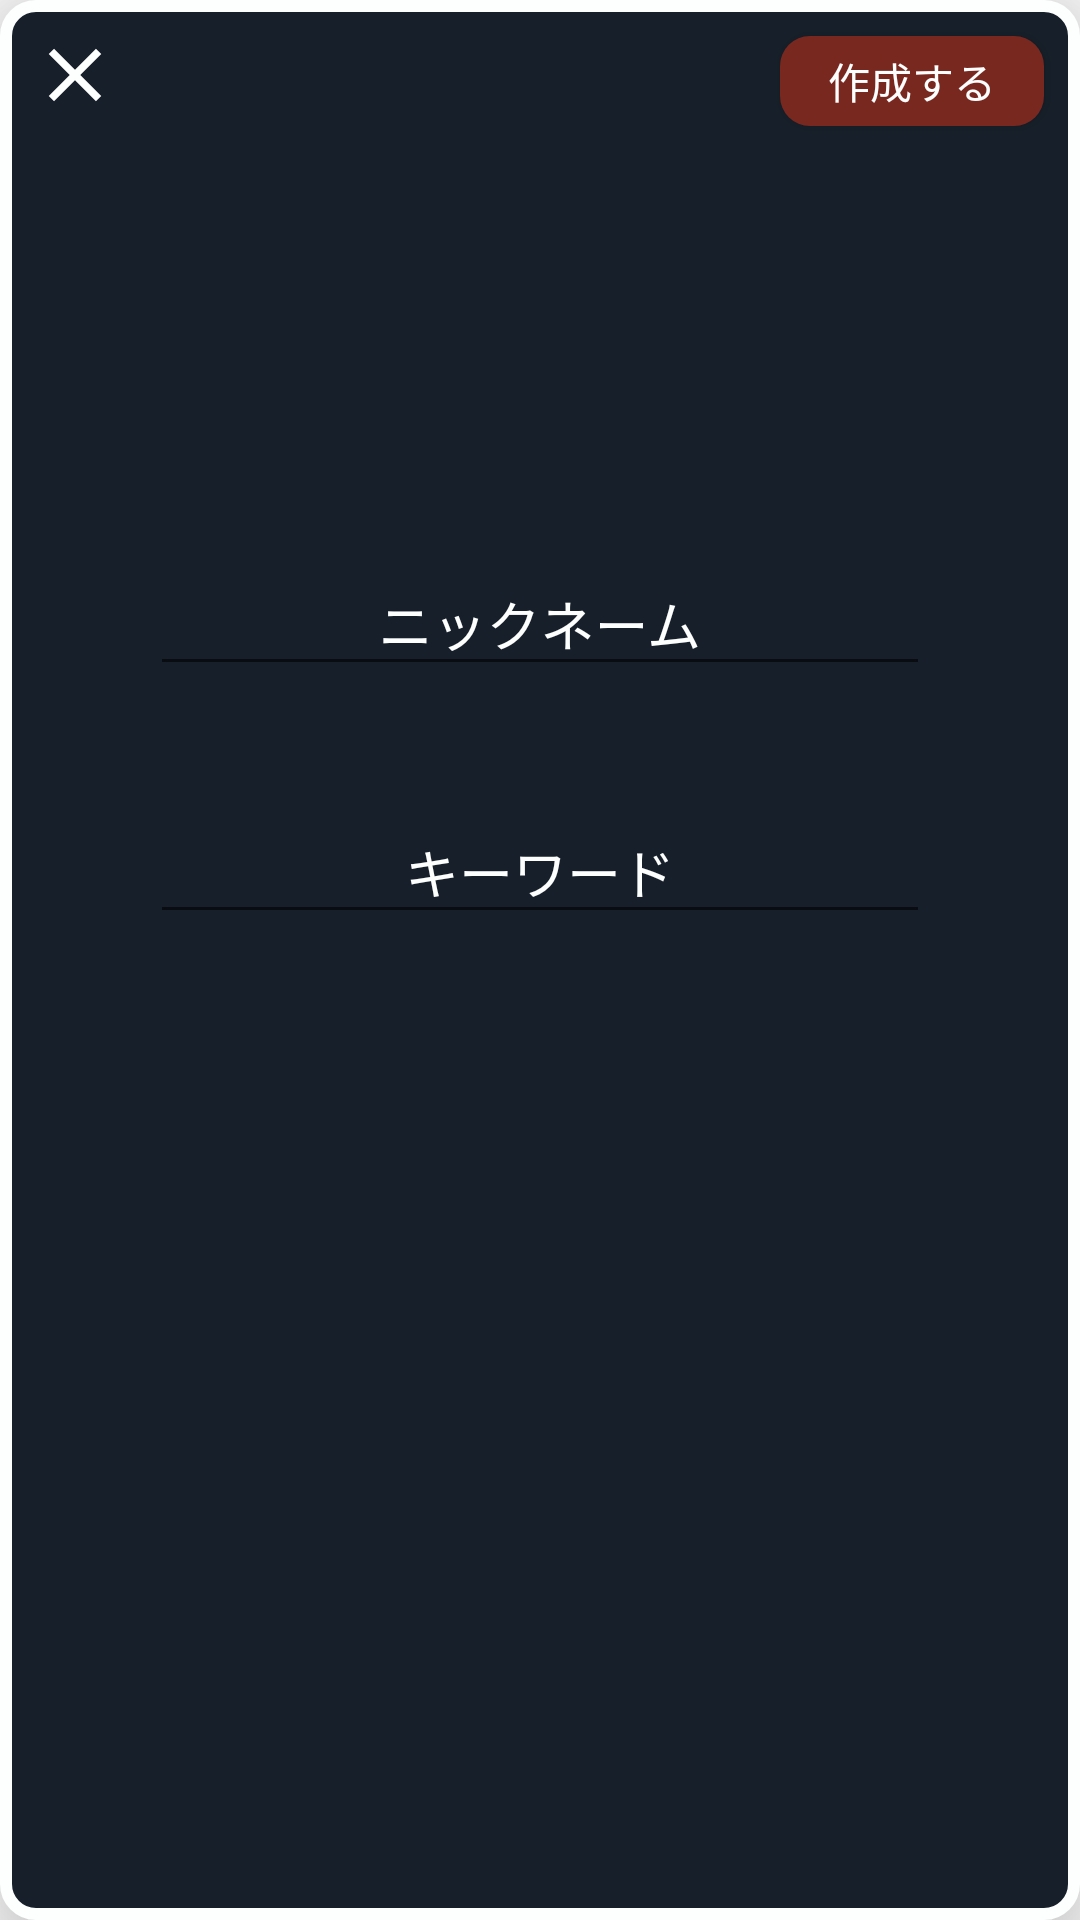

Icon click points for this 1080×1920 phone screenshot, format (x,y):
close: (75,75)
